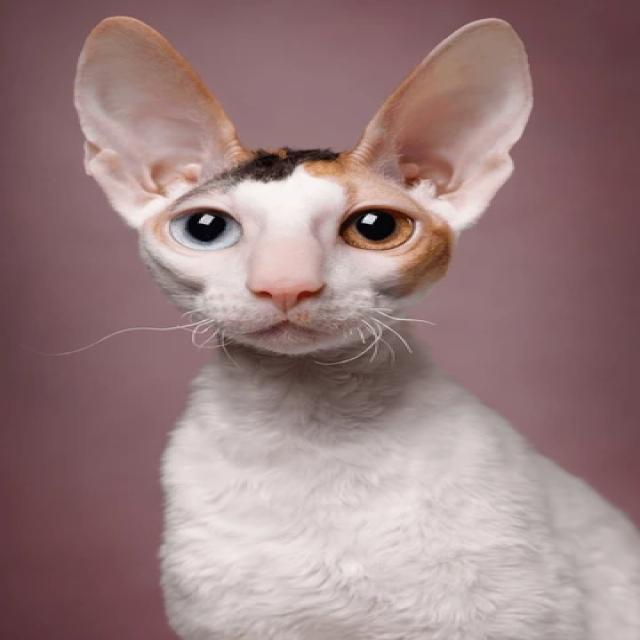Cornish Rex: (62, 8, 640, 640)
